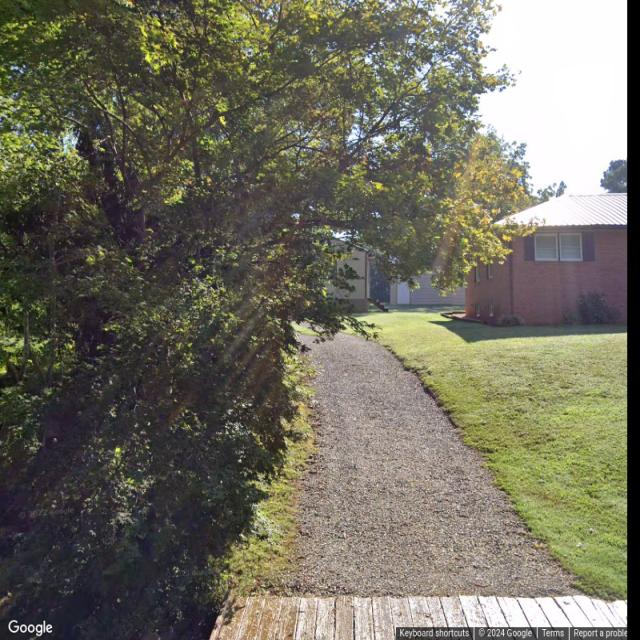House: (464, 191, 628, 329), (305, 238, 372, 314)
